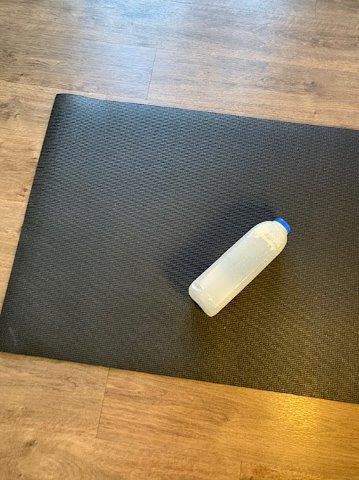botolplastik: (189, 217, 290, 316)
